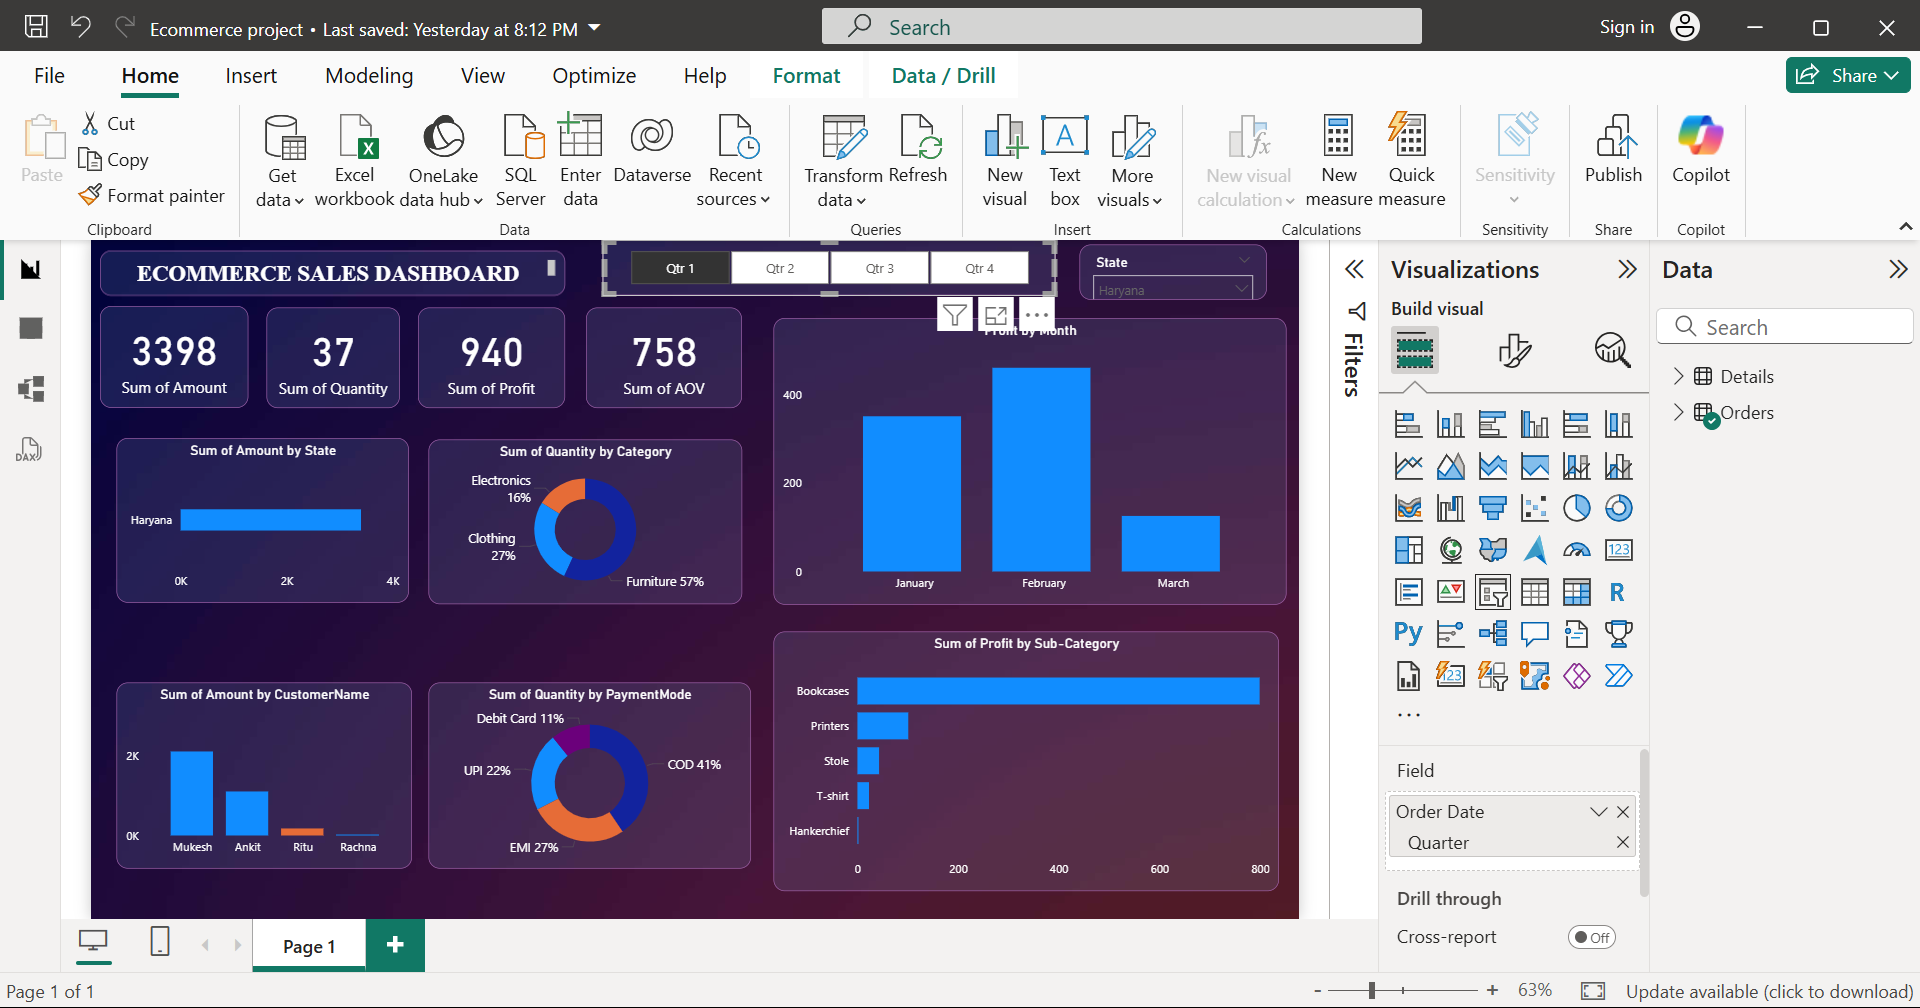

This screenshot's page, from the dashboard's own definition file:
{"tool":"powerbi","page":{"name":"Page 1","canvas":[1280,720],"ordinal":0},"visuals":[{"type":"textbox","box":[9.5,11.1,493.1,47.7],"z":0},{"type":"columnChart","title":"Profit by Month","fields":{"Y":["Sum(Details.Profit)"],"Category":["Orders.Order Date.Variation.Date Hierarchy.Month"]},"box":[723.7,82.7,544,303.8],"z":1000},{"type":"barChart","fields":{"Category":["Details.Sub-Category"],"Y":["Sum(Details.Profit)"]},"box":[723.7,415.1,536,275.2],"z":2000},{"type":"donutChart","fields":{"Category":["Details.Category"],"Y":["Sum(Details.Quantity)"]},"box":[357.9,211.6,332.4,175],"z":3000},{"type":"donutChart","fields":{"Category":["Details.PaymentMode"],"Y":["Sum(Details.Quantity)"]},"box":[357.9,469.2,342,197.2],"z":4000},{"type":"card","fields":{"Values":["Sum(Details.Amount)"]},"box":[9.5,70,157.5,108.2],"z":5000},{"type":"card","fields":{"Values":["Sum(Details.Quantity)"]},"box":[186.1,71.6,141.6,106.6],"z":6000},{"type":"card","fields":{"Values":["Sum(Details.Profit)"]},"box":[346.8,71.6,155.9,106.6],"z":7000},{"type":"card","fields":{"Values":["Sum(Details.AOV)"]},"box":[524.9,71.6,165.4,106.6],"z":8000},{"type":"barChart","fields":{"Y":["Sum(Details.Amount)"],"Category":["Orders.State"]},"box":[27,210,310.2,175],"z":9000},{"type":"columnChart","fields":{"Category":["Orders.CustomerName"],"Y":["Sum(Details.Amount)"]},"box":[27,469.2,313.4,197.2],"z":10000},{"type":"slicer","fields":{"Values":["Orders.Order Date.Variation.Date Hierarchy.Quarter"]},"box":[542.4,0,480.4,58.9],"z":11000},{"type":"slicer","fields":{"Values":["Orders.State"]},"box":[1048.2,4.8,198.8,58.9],"z":12000}]}

Visuals, with their boxes on the page's 1280x720 design canvas (x1, y1, x2, y2). These are canvas units, not pixel positions in the 1920x1008 screenshot, which may show the page scaled, cropped or inside an application window:
textbox: {"x1": 10, "y1": 11, "x2": 503, "y2": 59}
"Profit by Month" columnChart: {"x1": 724, "y1": 83, "x2": 1268, "y2": 386}
barChart - Details.Sub-Category x Sum(Details.Profit): {"x1": 724, "y1": 415, "x2": 1260, "y2": 690}
donutChart - Details.Category x Sum(Details.Quantity): {"x1": 358, "y1": 212, "x2": 690, "y2": 387}
donutChart - Details.PaymentMode x Sum(Details.Quantity): {"x1": 358, "y1": 469, "x2": 700, "y2": 666}
card - Sum(Details.Amount): {"x1": 10, "y1": 70, "x2": 167, "y2": 178}
card - Sum(Details.Quantity): {"x1": 186, "y1": 72, "x2": 328, "y2": 178}
card - Sum(Details.Profit): {"x1": 347, "y1": 72, "x2": 503, "y2": 178}
card - Sum(Details.AOV): {"x1": 525, "y1": 72, "x2": 690, "y2": 178}
barChart - Sum(Details.Amount) x Orders.State: {"x1": 27, "y1": 210, "x2": 337, "y2": 385}
columnChart - Orders.CustomerName x Sum(Details.Amount): {"x1": 27, "y1": 469, "x2": 340, "y2": 666}
slicer - Orders.Order Date.Variation.Date Hierarchy.Quarter: {"x1": 542, "y1": 0, "x2": 1023, "y2": 59}
slicer - Orders.State: {"x1": 1048, "y1": 5, "x2": 1247, "y2": 64}
